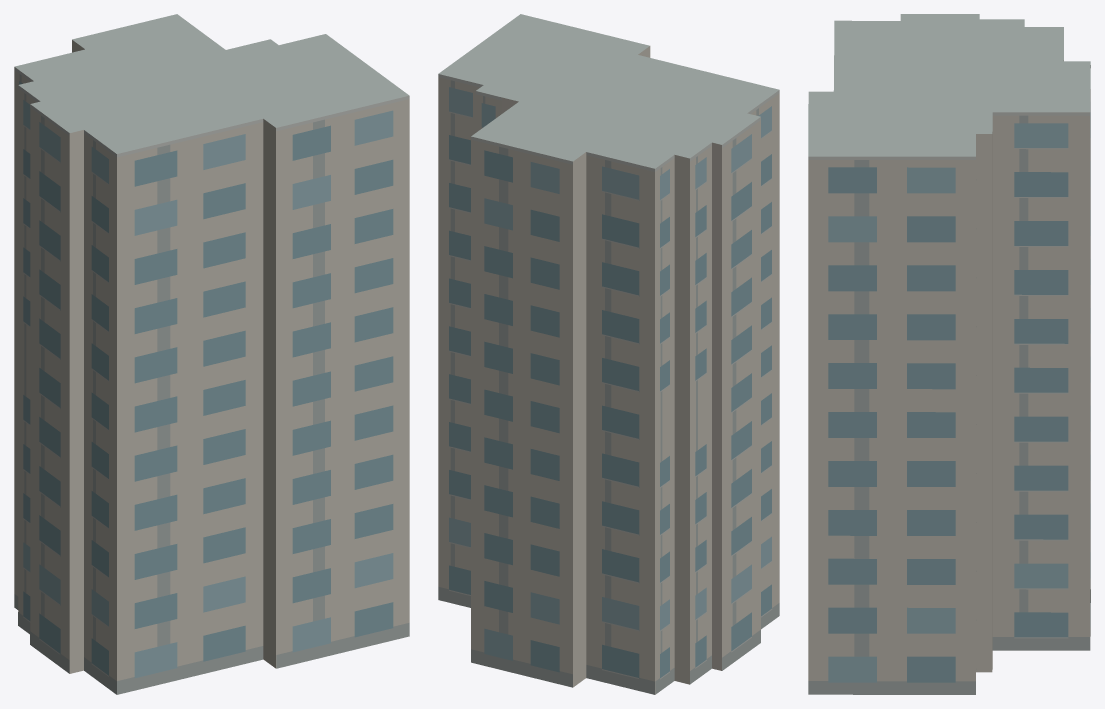
File: residential-dc5fac71-9144-44a9-b199-a80db0e9cd66.glb
3 views of the same model, side by side, from view 1: azimuth 30°, elevation 25°; view 2: azimuth 150°, elevation 25°; view 3: azimuth 270°, elevation 25° (orthographic). The views are drawn at different scales.
Parts seen in each view (by area): view 1: residential-dc5fac71-9144-44a9-b199-a80db0e9cd66.tmp; view 2: residential-dc5fac71-9144-44a9-b199-a80db0e9cd66.tmp; view 3: residential-dc5fac71-9144-44a9-b199-a80db0e9cd66.tmp.
Boxes of the visible parts, <box> form: residential-dc5fac71-9144-44a9-b199-a80db0e9cd66.tmp: <box>14,14,409,694</box>; residential-dc5fac71-9144-44a9-b199-a80db0e9cd66.tmp: <box>438,14,779,694</box>; residential-dc5fac71-9144-44a9-b199-a80db0e9cd66.tmp: <box>808,14,1090,694</box>.
Bounding box in the file's own units: 22.2 × 39 × 18.57.
